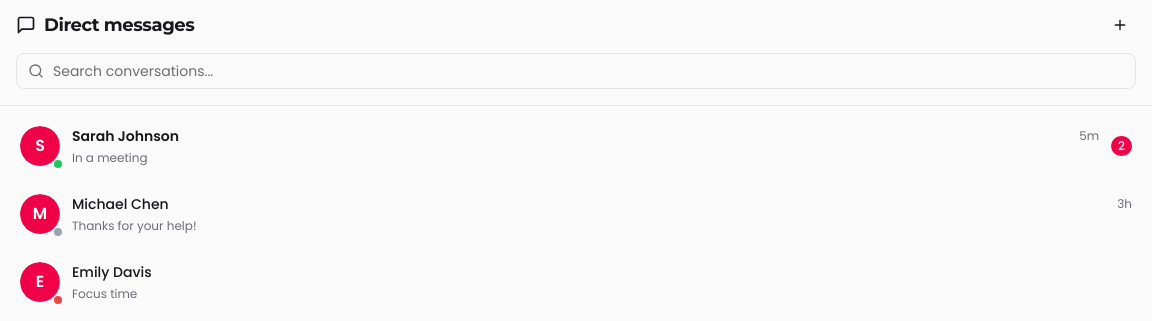
DirectMessageList › Search Functionality › should filter conversations based on search query
In the field with placeholder "Search conversations...": (576, 71) [16, 53, 1136, 89], type "Sarah"
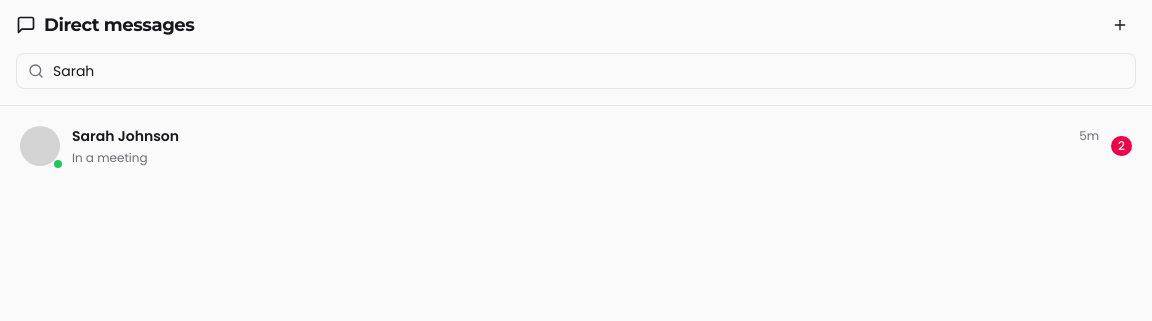
Expected: the text "Sarah Johnson" is shown, [72, 126, 179, 146]
Expected: the button "Michael Chen" is gone
Expected: the button "Emily Davis" is gone
